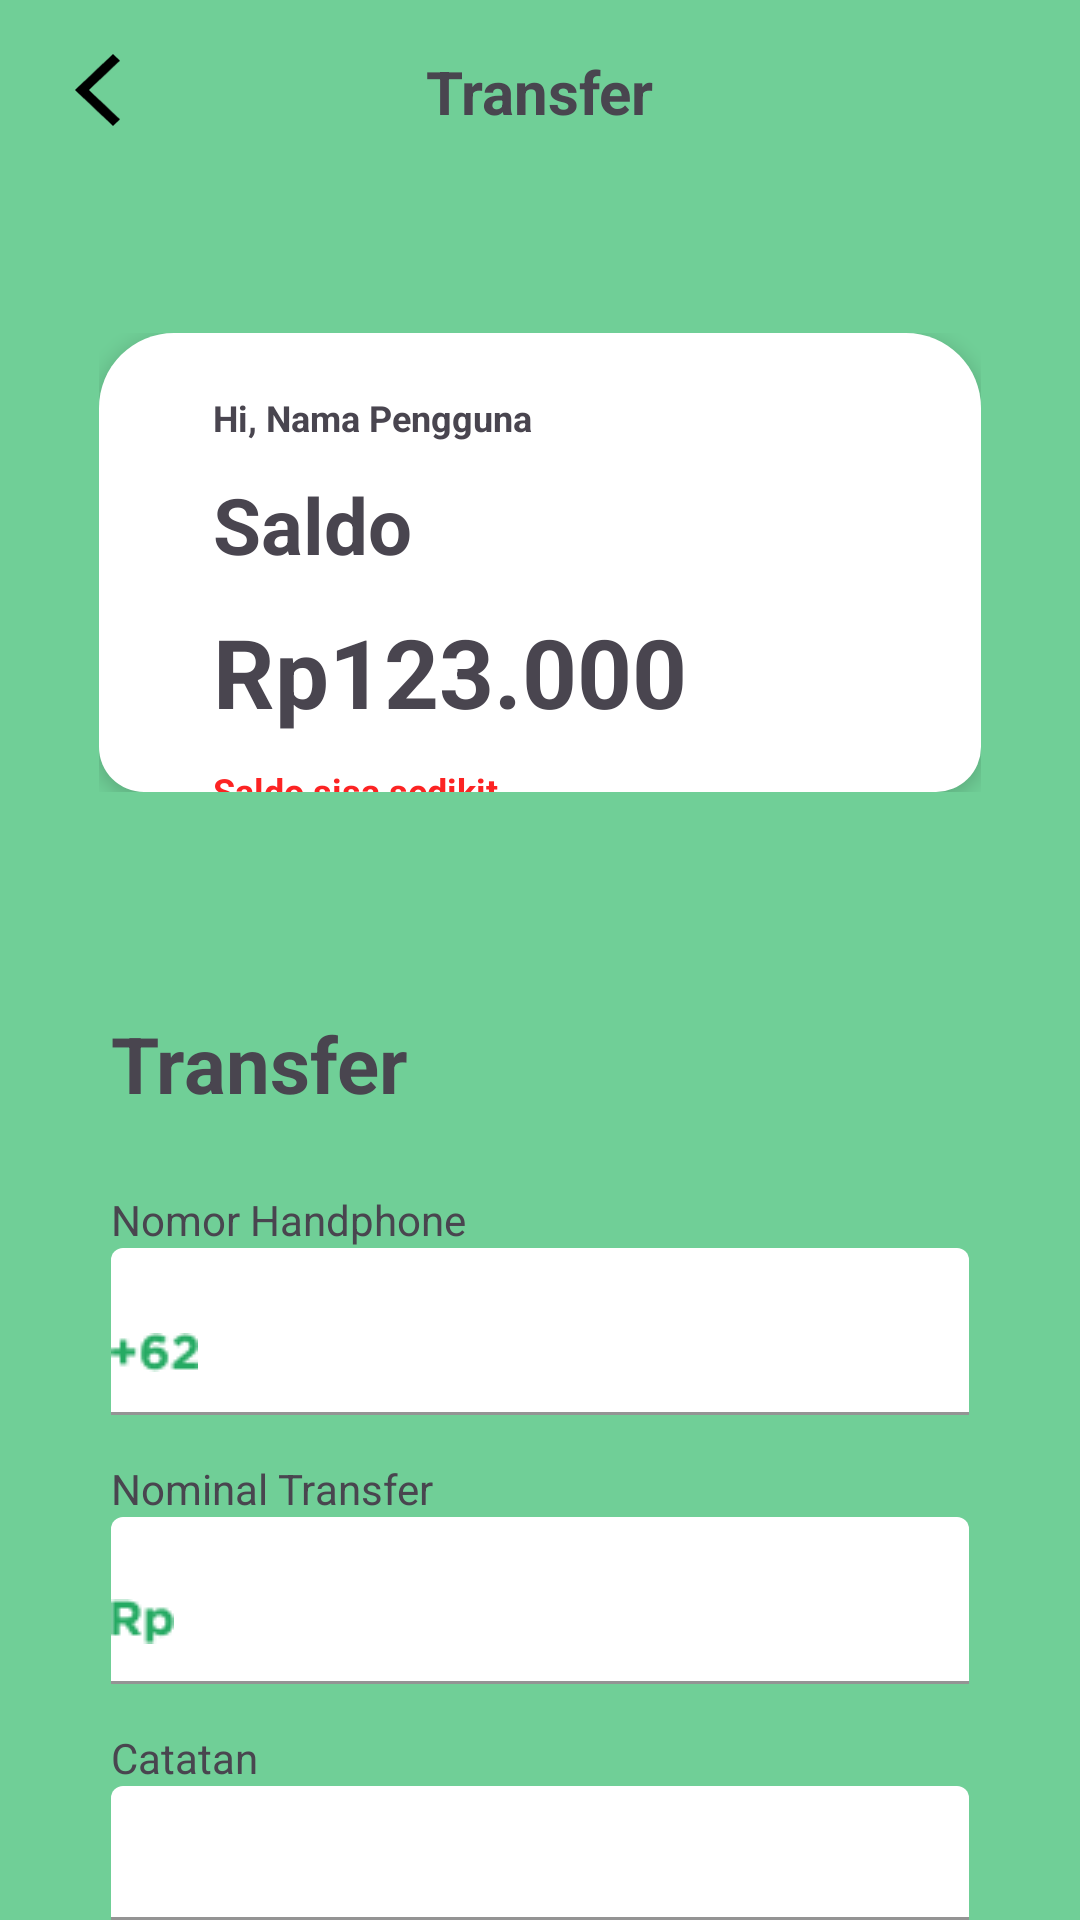

Screen size 1080x1920. Icon name, then its center in pixels as point (x, y):
iconback: point (97, 90)
